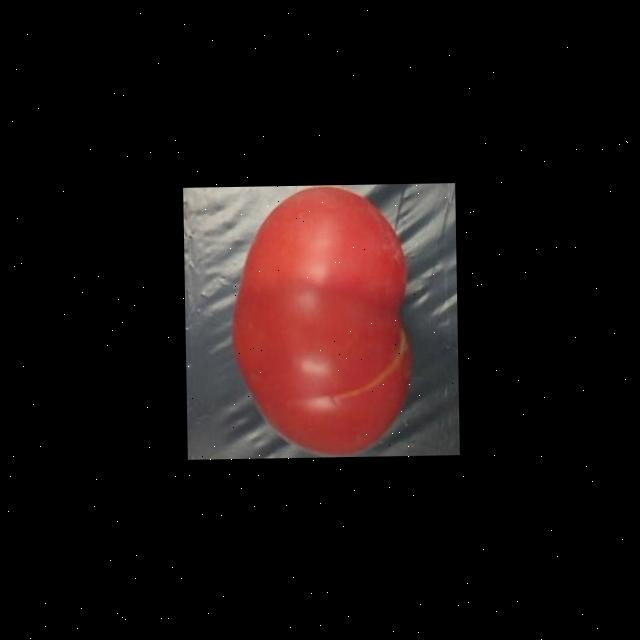tomato: (222, 182, 424, 458)
